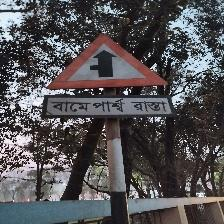Side-road-left: (42, 33, 176, 121)
